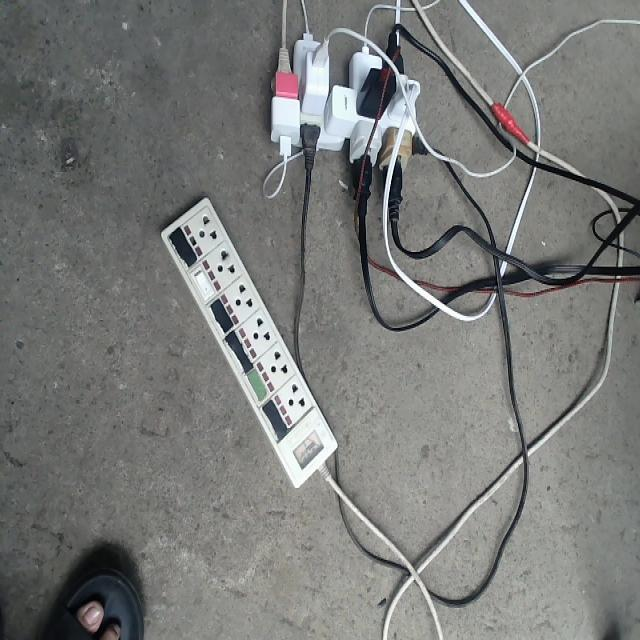-: (261, 25, 420, 175)
